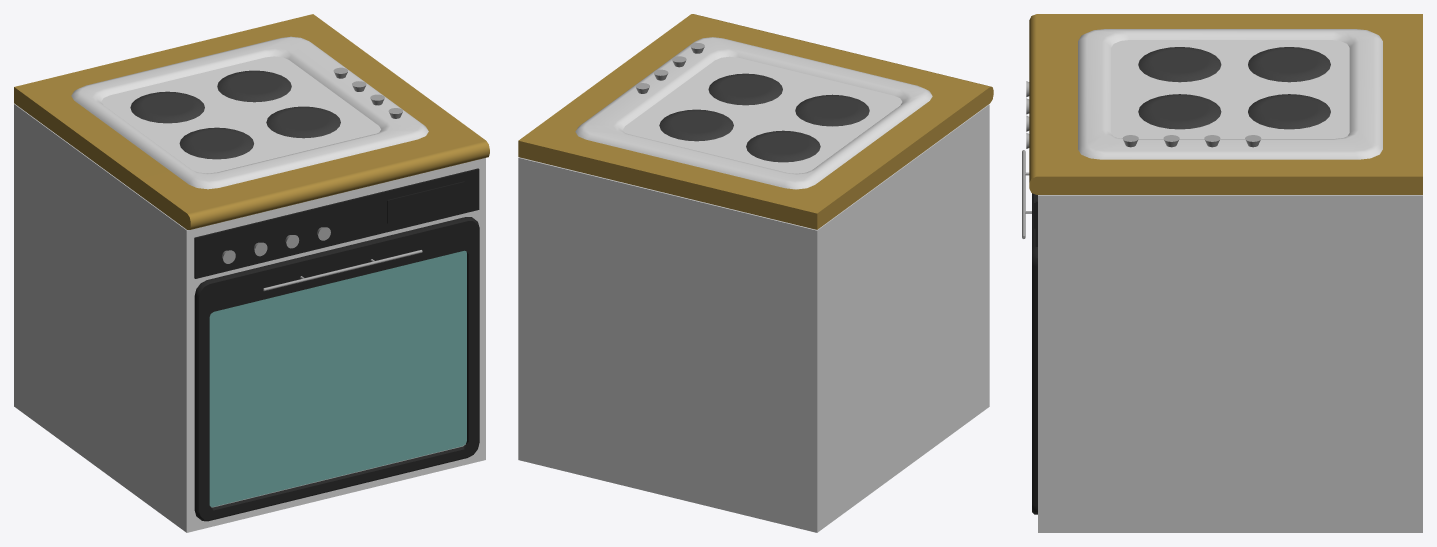
The model's file is stove.fbx.
3 renders of one model, left to right at view 1: azimuth 30°, elevation 25°; view 2: azimuth 150°, elevation 25°; view 3: azimuth 270°, elevation 25°, orthographic. The views are drawn at different scales.
Parts seen in each view (by area): view 1: stove; view 2: stove; view 3: stove.
Part boxes in pixels (box(x1,y1,x2,y2)): stove: box(14, 14, 489, 532); stove: box(518, 14, 993, 532); stove: box(1022, 14, 1422, 532).
Bounding box in the file's own units: 100 × 104 × 106.
